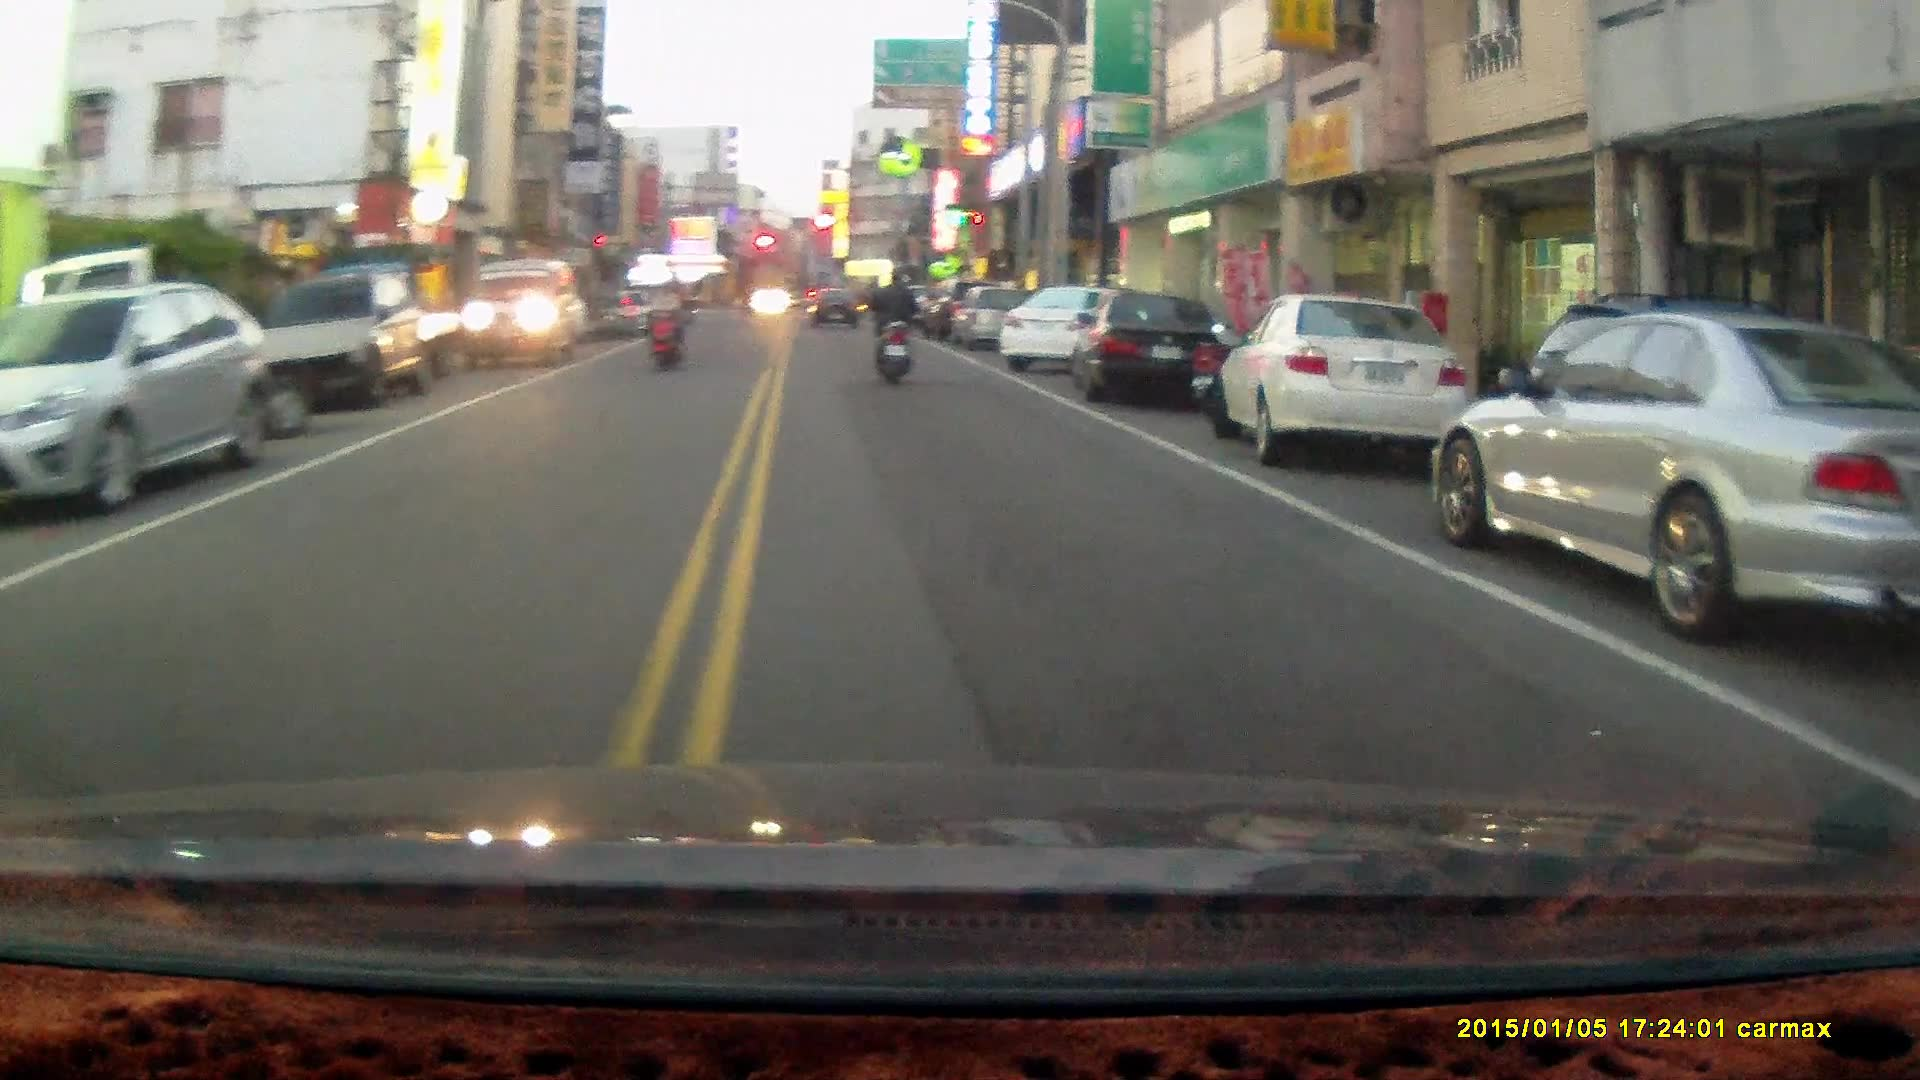rider: (869, 265, 917, 389), (648, 276, 687, 376)
vehicle: (1427, 306, 1920, 638), (1, 286, 260, 517), (1206, 293, 1478, 461), (257, 270, 418, 408), (1077, 288, 1233, 406), (993, 286, 1145, 378), (465, 256, 584, 373)
